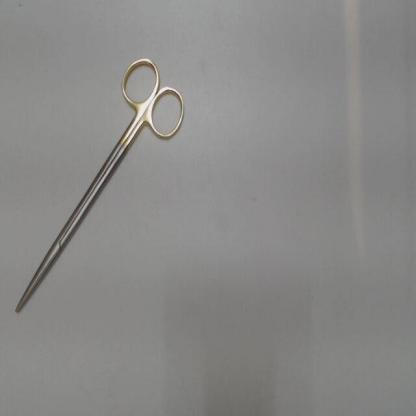7 Metzenbaum Scissors: (16, 54, 187, 315)
